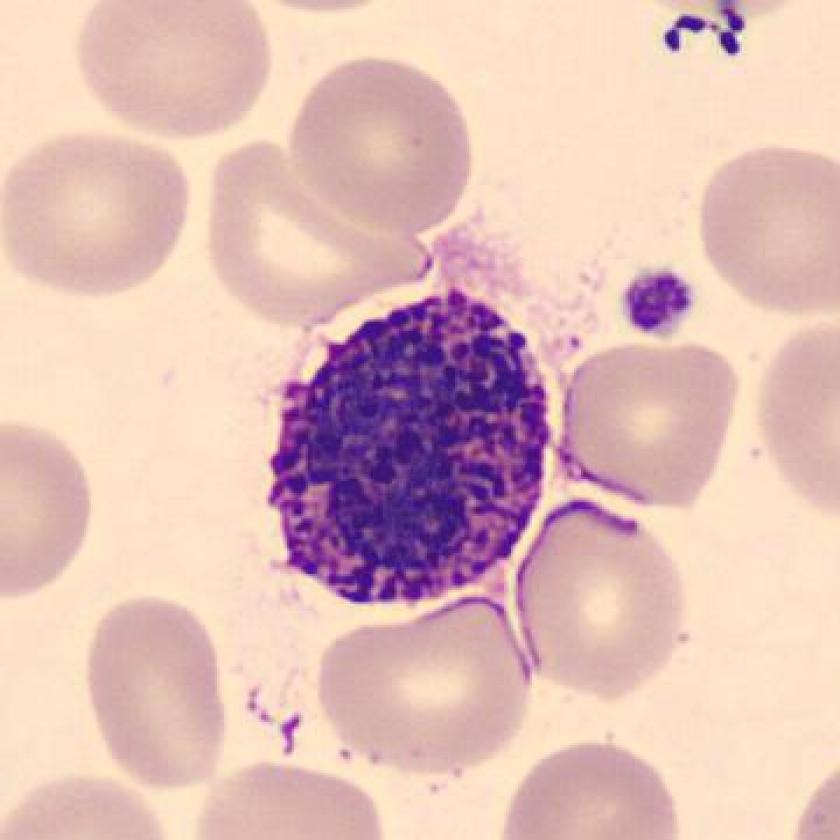basophil: (260, 286, 577, 610)
